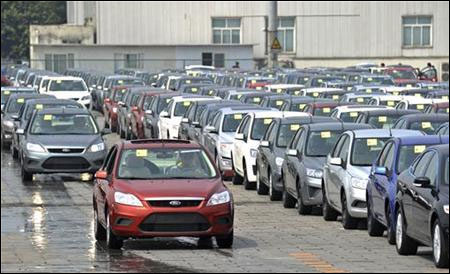car: (92, 134, 235, 252), (324, 126, 427, 239), (238, 111, 324, 211), (395, 144, 450, 265), (24, 110, 106, 182), (47, 73, 95, 118)
